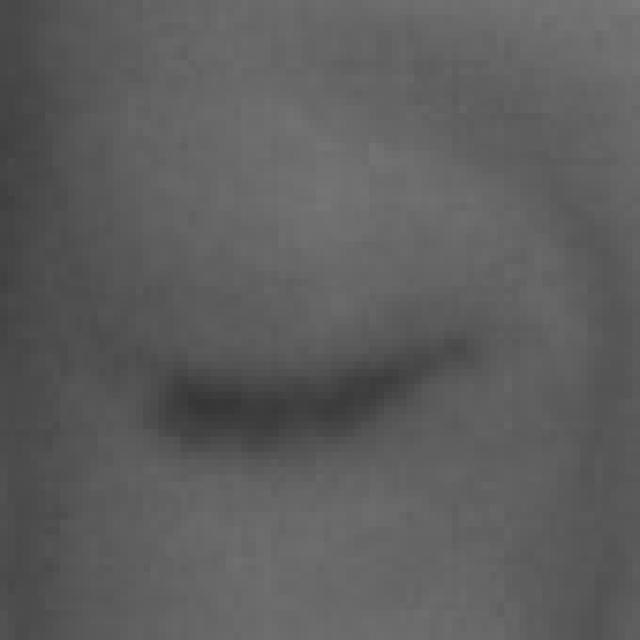Eyeclosed: (131, 228, 477, 578)
